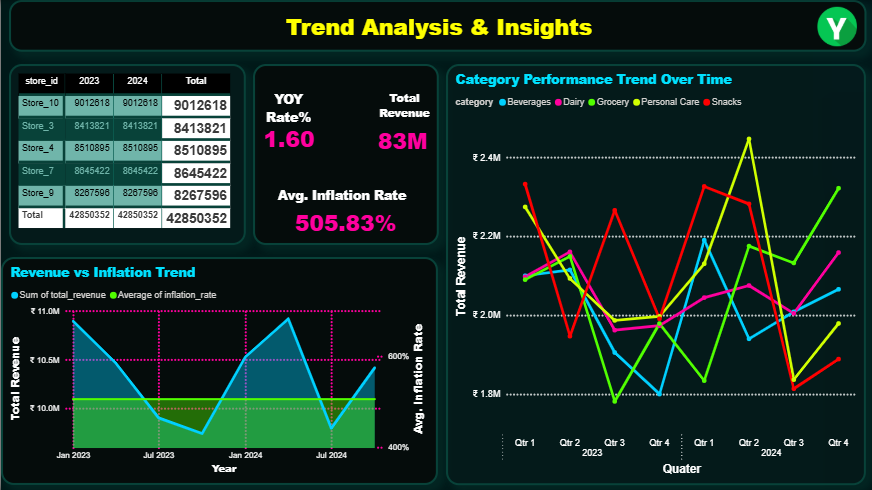

This screenshot's page, from the dashboard's own definition file:
{"tool":"powerbi","page":{"name":"Trend Analysis & Insights","canvas":[1280,720],"ordinal":2},"visuals":[{"type":"textbox","box":[370.3,94,273.3,266],"z":0},{"type":"textbox","box":[11.7,0,1260,76],"z":1000},{"type":"areaChart","title":"Revenue vs Inflation Trend","fields":{"Category":["sales_summary_monthly_connected.MonthStart.Variation.Date Hierarchy.Year","sales_summary_monthly_connected.MonthStart.Variation.Date Hierarchy.Quarter"],"Y":["Sum(sales_summary_monthly_connected.total_revenue)"],"Y2":["Avg(inflation_rate.inflation_rate)"]},"box":[0,377.6,642.1,335],"z":2000},{"type":"lineChart","title":"Category Performance Trend Over Time","fields":{"Category":["sales_summary_monthly_connected.MonthStart.Variation.Date Hierarchy.Year","sales_summary_monthly_connected.MonthStart.Variation.Date Hierarchy.Quarter"],"Y":["Sum(sales_summary_monthly_connected.total_revenue)"],"Series":["sales_summary_monthly_connected.category"]},"box":[653.9,94,617.1,618.6],"z":3000},{"type":"pivotTable","fields":{"Rows":["store_performance_summary_connected.store_id"],"Columns":["sales_summary_monthly_connected.MonthStart.Variation.Date Hierarchy.Year"],"Values":["Sum(store_performance_summary_connected.total_revenue)"]},"box":[11.8,94,348.2,266],"z":4000},{"type":"card","fields":{"Values":["Sum(store_performance_summary_connected.total_revenue)"]},"box":[545.1,183.7,89.6,47],"z":5000},{"type":"card","fields":{"Values":["sales_summary_monthly_connected.YOY Growth Rate (%)"]},"box":[371.8,177.8,102.9,52.9],"z":6000},{"type":"card","fields":{"Values":["Avg(inflation_rate.inflation_rate)"]},"box":[421.7,293.9,169,66.1],"z":7000},{"type":"textbox","box":[354.1,11.8,578.9,66.1],"z":8000},{"type":"textbox","box":[370.3,126.4,104.3,77.9],"z":9000},{"type":"textbox","box":[545.1,126.4,95.5,77.9],"z":10000},{"type":"textbox","box":[396.7,267.4,208.7,60.2],"z":11000},{"type":"image","box":[1194.6,0,67.6,77.9],"z":12000}]}

Visuals, with their boxes in screenshot pixels (x1, y1, x2, y2), scaled from the page's 1280x720 canvas onto the 872x490 screenshot:
textbox: bbox(252, 64, 438, 245)
textbox: bbox(8, 0, 866, 52)
"Revenue vs Inflation Trend" areaChart: bbox(0, 257, 437, 485)
"Category Performance Trend Over Time" lineChart: bbox(445, 64, 866, 485)
pivotTable - store_performance_summary_connected.store_id x sales_summary_monthly_connected.MonthStart.Variation.Date Hierarchy.Year: bbox(8, 64, 245, 245)
card - Sum(store_performance_summary_connected.total_revenue): bbox(371, 125, 432, 157)
card - sales_summary_monthly_connected.YOY Growth Rate (%): bbox(253, 121, 323, 157)
card - Avg(inflation_rate.inflation_rate): bbox(287, 200, 402, 245)
textbox: bbox(241, 8, 636, 53)
textbox: bbox(252, 86, 323, 139)
textbox: bbox(371, 86, 436, 139)
textbox: bbox(270, 182, 412, 223)
image: bbox(814, 0, 860, 53)
